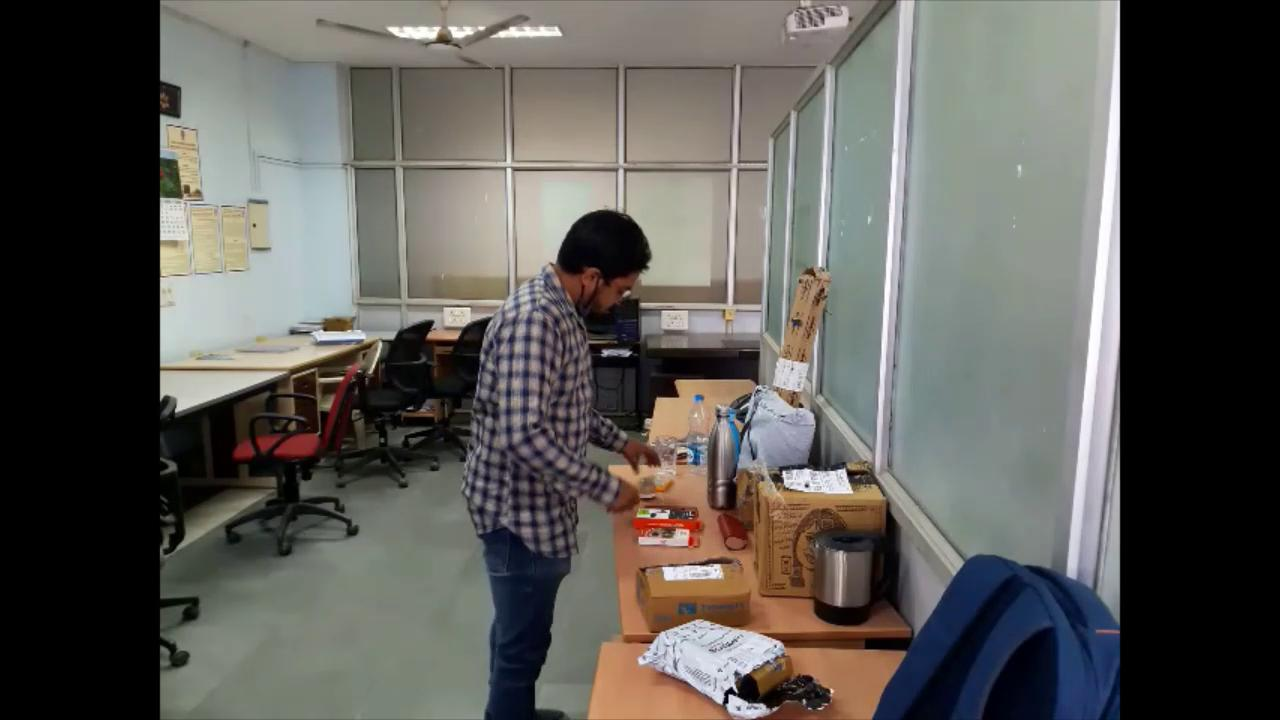Normal: (452, 195, 673, 720)
